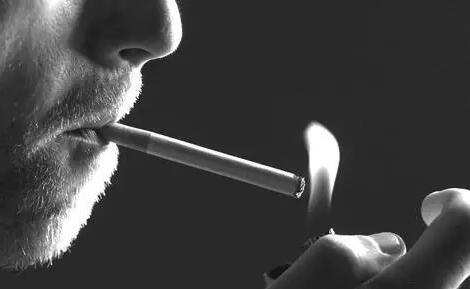smoke: (84, 117, 306, 200)
